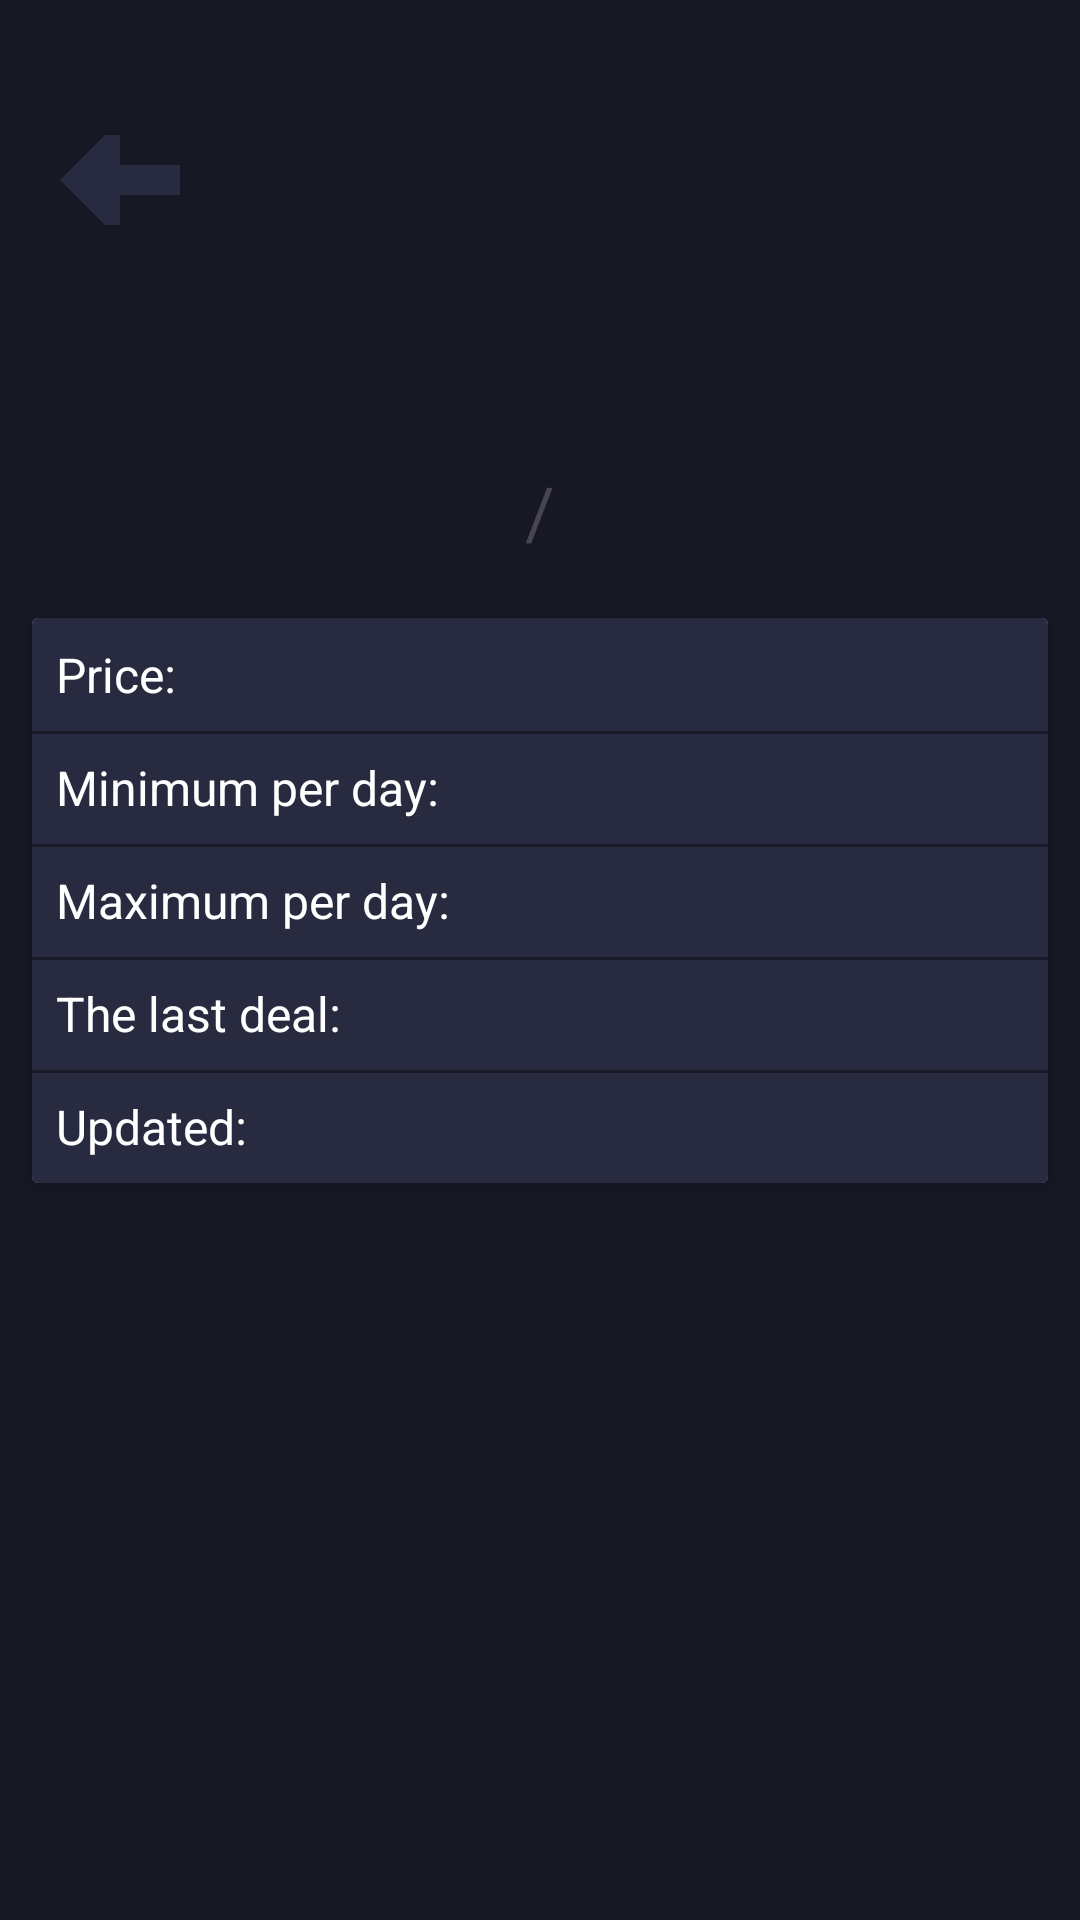

Icons on this 1080 x 1920 Android screen, each with its box as (x1, y1, x2, y2):
arrowleft: (61, 135, 180, 225)
